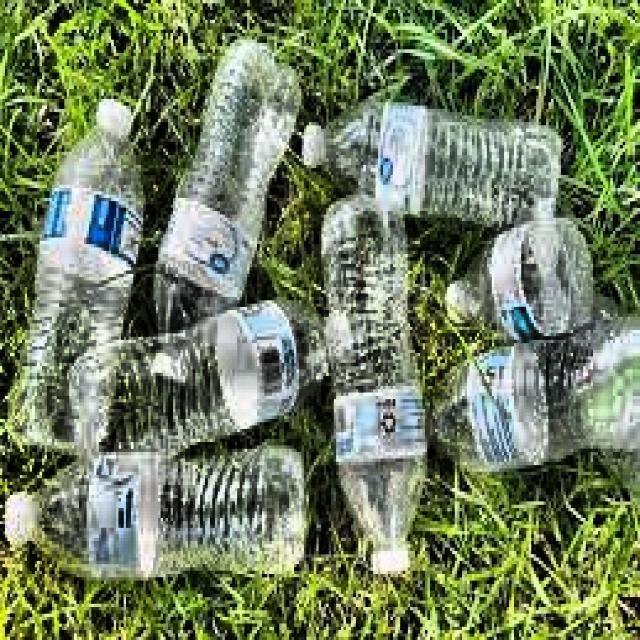plastic bottle: (10, 100, 142, 451), (156, 40, 298, 331), (321, 192, 428, 572), (8, 446, 305, 578), (100, 300, 324, 453), (302, 98, 557, 229), (434, 319, 640, 470), (446, 219, 592, 341)
